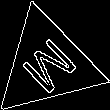M_SE: (13, 30, 81, 98)
